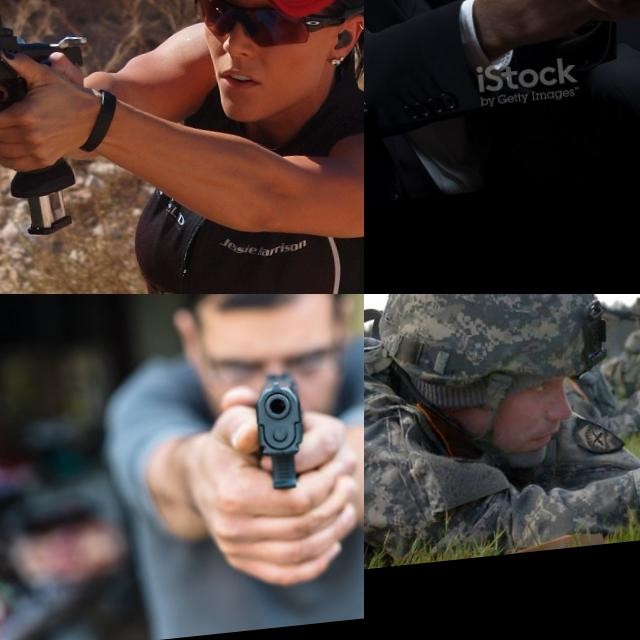handgun: (0, 0, 103, 128), (505, 0, 640, 72), (248, 368, 314, 496)
